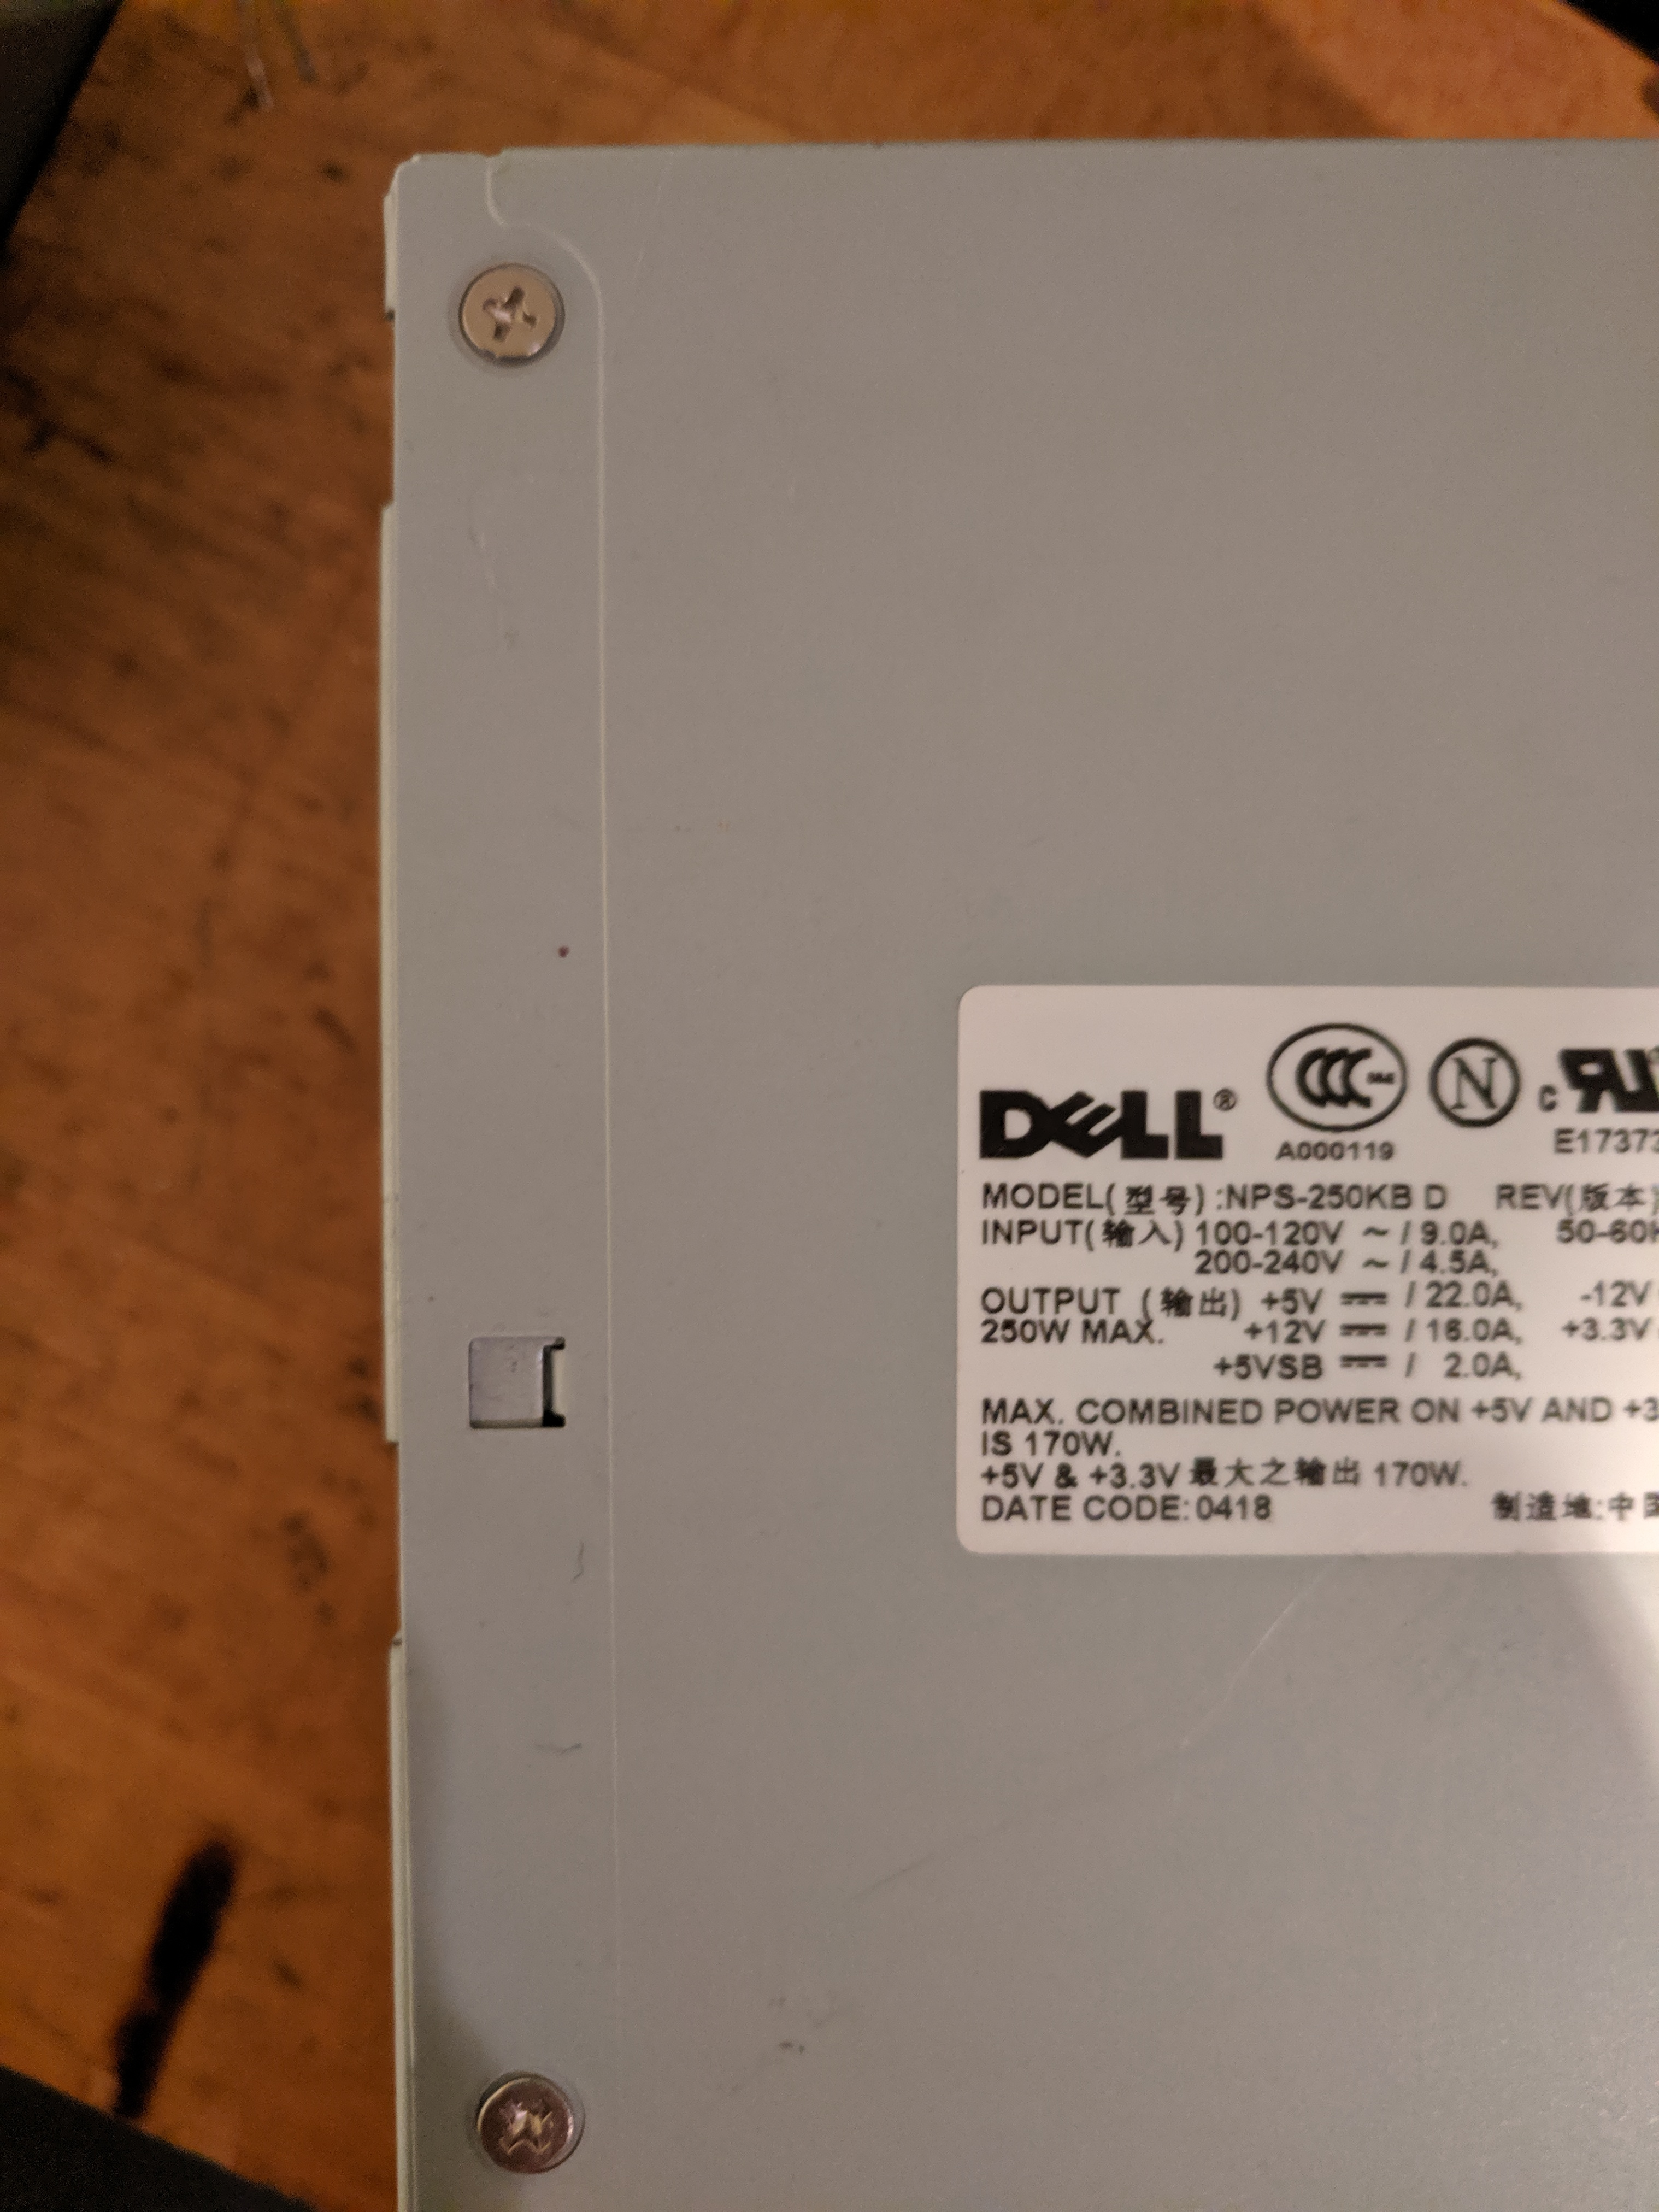cross_recessed_screw: (446, 254, 570, 369), (469, 2067, 586, 2179)
